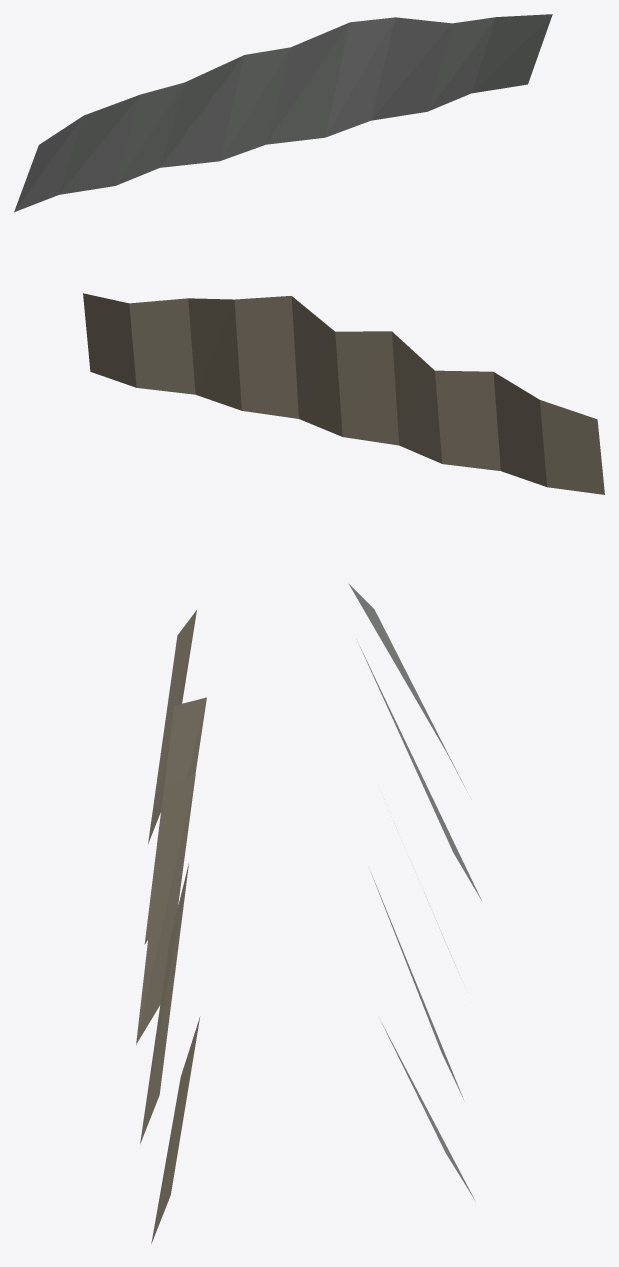
The model's file is shelf_escarpment_a.glb.
The picture shows the model from 3 angles, top to bottom: view 1: azimuth 30°, elevation 25°; view 2: azimuth 150°, elevation 25°; view 3: azimuth 270°, elevation 25°; orthographic projection. The views are drawn at different scales.
Visible parts, largest first — view 1: stone_face; view 2: rear_transition; view 3: rear_transition, stone_face.
Boxes of the visible parts, x1,y1,x2,y2 form: stone_face: [14, 14, 552, 212]; rear_transition: [83, 293, 604, 494]; rear_transition: [136, 610, 206, 1243]; stone_face: [348, 583, 481, 1201].
Size of the model in its own units: 18 by 4.45 by 5.28.
